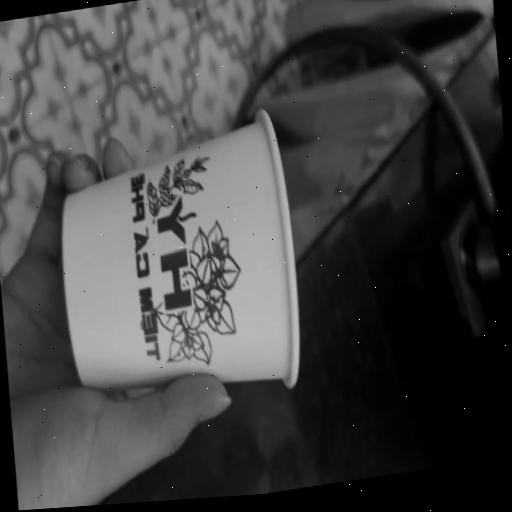Ly_giay: (62, 112, 298, 390)
